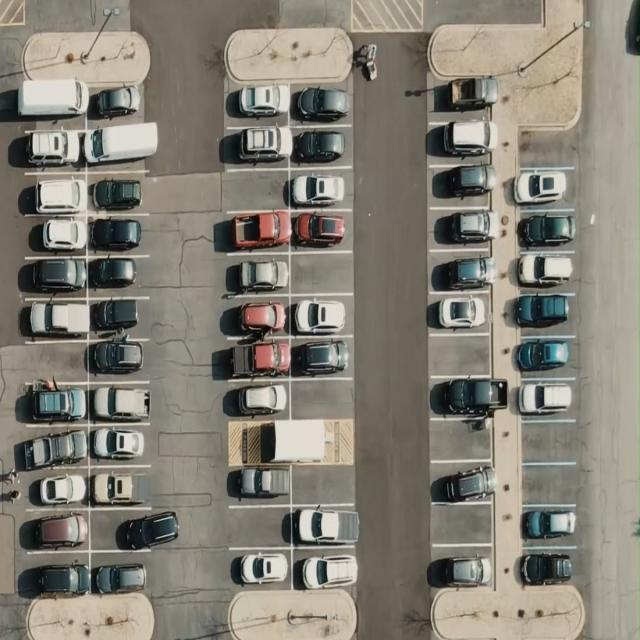space-empty: (430, 415, 497, 461), (22, 338, 88, 384), (221, 168, 289, 211), (226, 504, 292, 548), (289, 250, 353, 294), (290, 377, 353, 420), (517, 421, 580, 464), (290, 462, 352, 505), (431, 504, 492, 546), (520, 462, 578, 505), (516, 128, 578, 168), (428, 337, 493, 375)
space-occupied: (81, 116, 153, 170), (14, 120, 85, 174), (91, 508, 175, 552), (22, 420, 90, 470), (16, 80, 84, 130), (221, 292, 290, 340), (19, 294, 88, 342), (428, 116, 500, 162), (430, 374, 503, 419), (223, 375, 290, 424), (428, 69, 495, 117), (428, 288, 494, 336), (24, 552, 91, 599), (291, 502, 356, 550), (19, 171, 86, 217), (428, 162, 496, 207), (518, 247, 580, 296), (24, 464, 90, 510), (289, 290, 352, 338), (222, 209, 289, 254), (428, 206, 495, 251), (512, 163, 576, 210), (24, 378, 88, 425), (88, 464, 156, 508), (290, 546, 358, 590), (225, 80, 290, 126), (84, 169, 150, 214), (224, 544, 292, 587), (22, 509, 90, 552), (514, 208, 580, 252), (223, 126, 290, 169), (21, 214, 89, 256), (86, 213, 152, 256), (510, 290, 576, 333), (89, 380, 152, 425), (514, 332, 577, 377), (290, 207, 351, 253), (290, 334, 352, 379), (229, 461, 291, 506), (519, 503, 579, 549), (222, 253, 291, 293), (86, 255, 150, 298), (289, 165, 350, 210), (88, 421, 149, 466), (89, 336, 148, 382), (432, 460, 492, 505), (514, 377, 576, 420), (92, 552, 152, 596), (428, 548, 494, 588), (430, 252, 492, 294), (21, 257, 86, 297), (224, 342, 292, 379), (89, 297, 148, 339), (291, 127, 351, 168), (290, 85, 350, 126), (518, 546, 578, 586), (84, 88, 148, 121)
